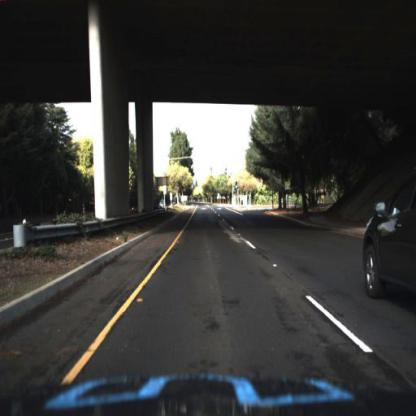car: (364, 173, 415, 308)
trafficLight-Green: (234, 177, 239, 195)
